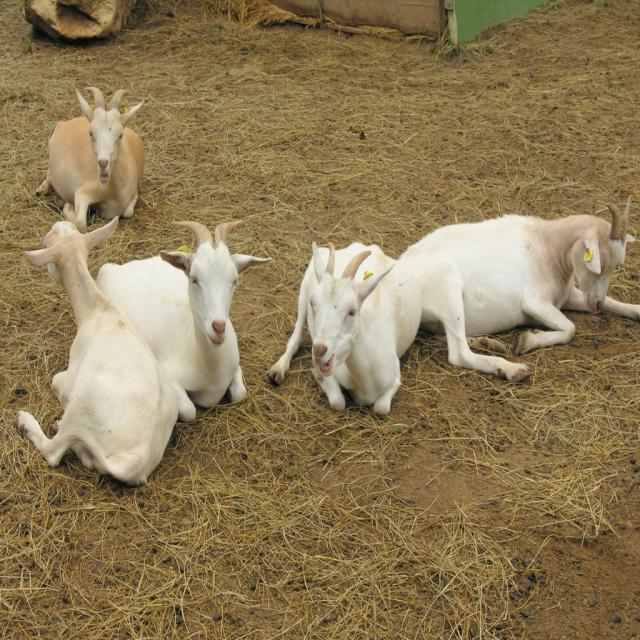Goat: (268, 193, 639, 415), (16, 214, 186, 488), (93, 218, 272, 424), (35, 84, 146, 232)
